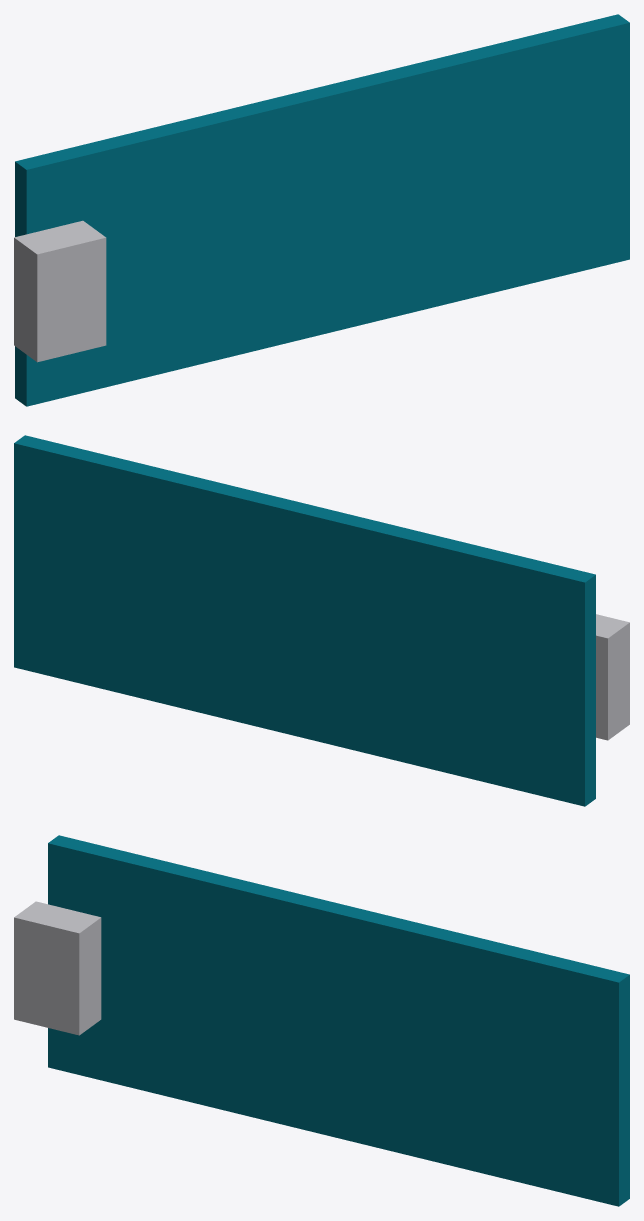
Rendered from mod-micro.glb.
3 views of the same model, one above another, from view 1: azimuth 30°, elevation 25°; view 2: azimuth 150°, elevation 25°; view 3: azimuth 330°, elevation 25° (orthographic). The views are drawn at different scales.
Parts seen in each view (by area): view 1: PCB-ARDUINO, MET-PORT; view 2: PCB-ARDUINO, MET-PORT; view 3: PCB-ARDUINO, MET-PORT.
Part boxes in pixels (x1=…): PCB-ARDUINO: x1=15, y1=14, x2=629, y2=406; MET-PORT: x1=14, y1=220, x2=106, y2=362; PCB-ARDUINO: x1=14, y1=435, x2=595, y2=806; MET-PORT: x1=596, y1=614, x2=629, y2=740; PCB-ARDUINO: x1=48, y1=835, x2=629, y2=1206; MET-PORT: x1=14, y1=901, x2=101, y2=1035.
Size of the model in its own units: 49 by 18 by 4.8.
